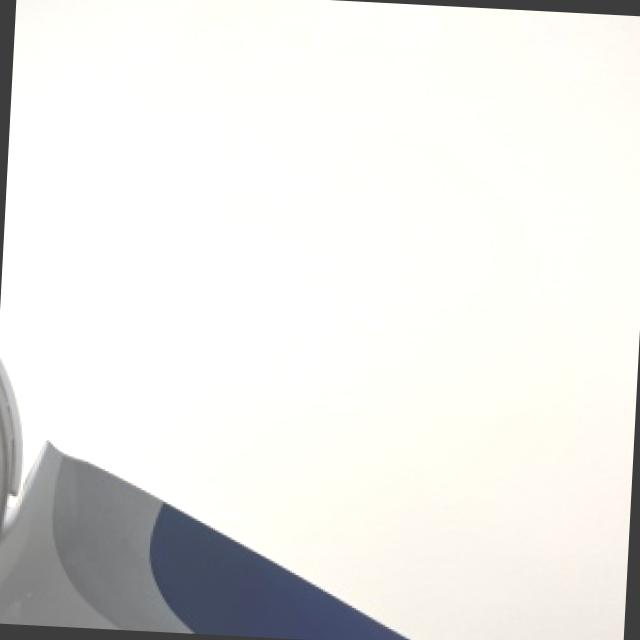healthy: (0, 445, 414, 640)
